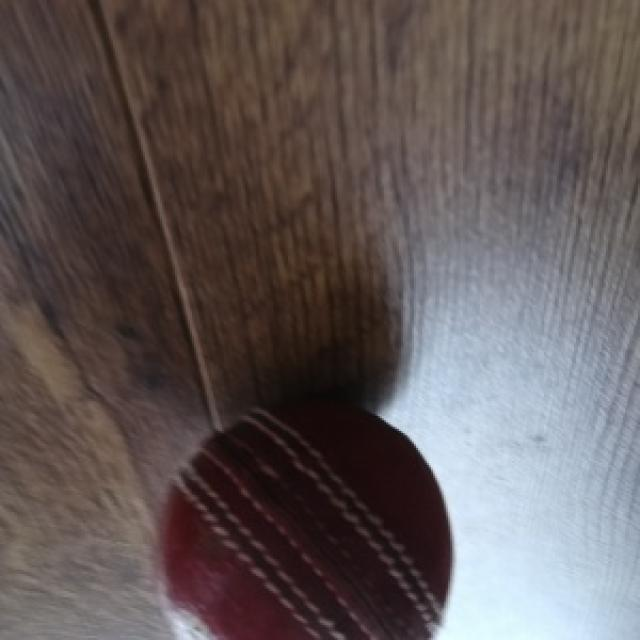ball: (156, 401, 454, 640)
